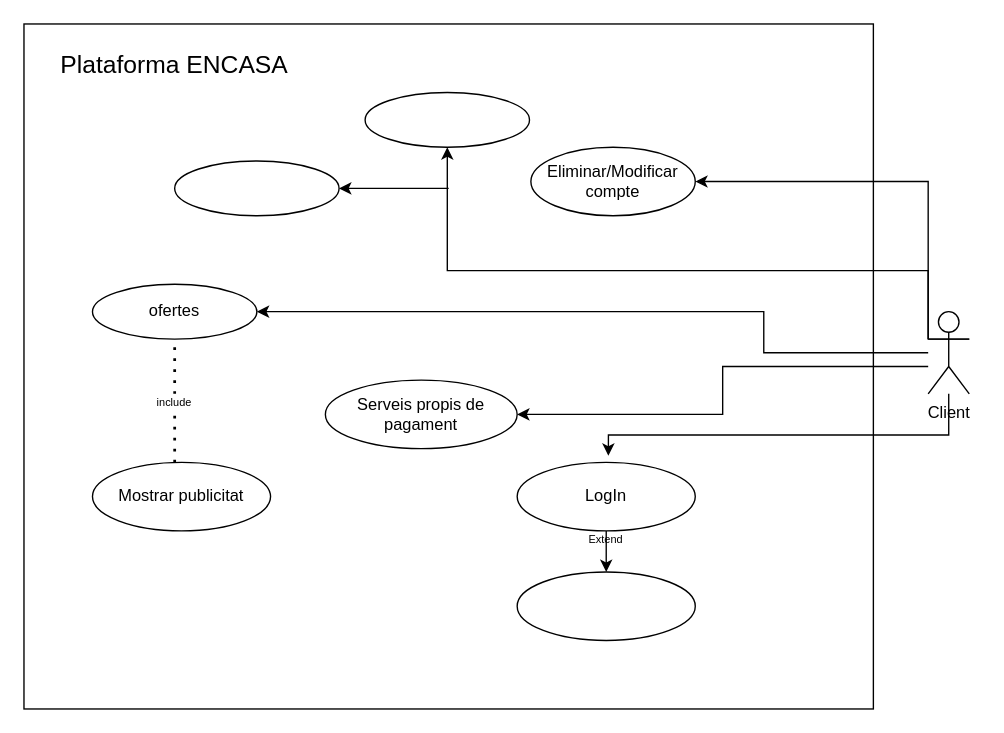
Some shapes in this 1004 by 733 pixel diagram are drawn without their labels. Here are the shapes that lost their labels. From the top down, the centre of each, then its label:
At point 447,119: "Comandes de productes".
At point 256,188: "Demanar quantitat de productes".
At point 605,605: "Abonaments".
